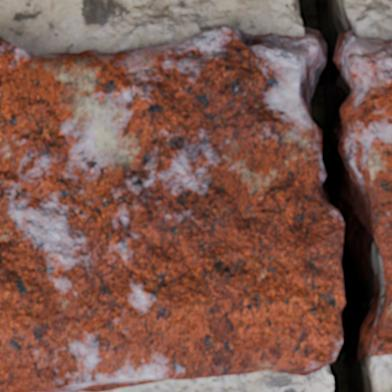broken_brick: (0, 24, 343, 391), (347, 35, 391, 275), (373, 285, 391, 357)
crack: (293, 0, 391, 391)
